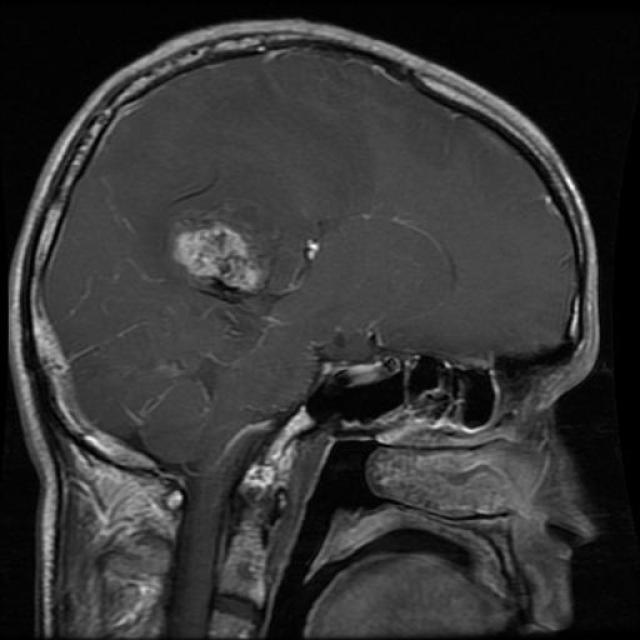glioma: (136, 189, 276, 306)
